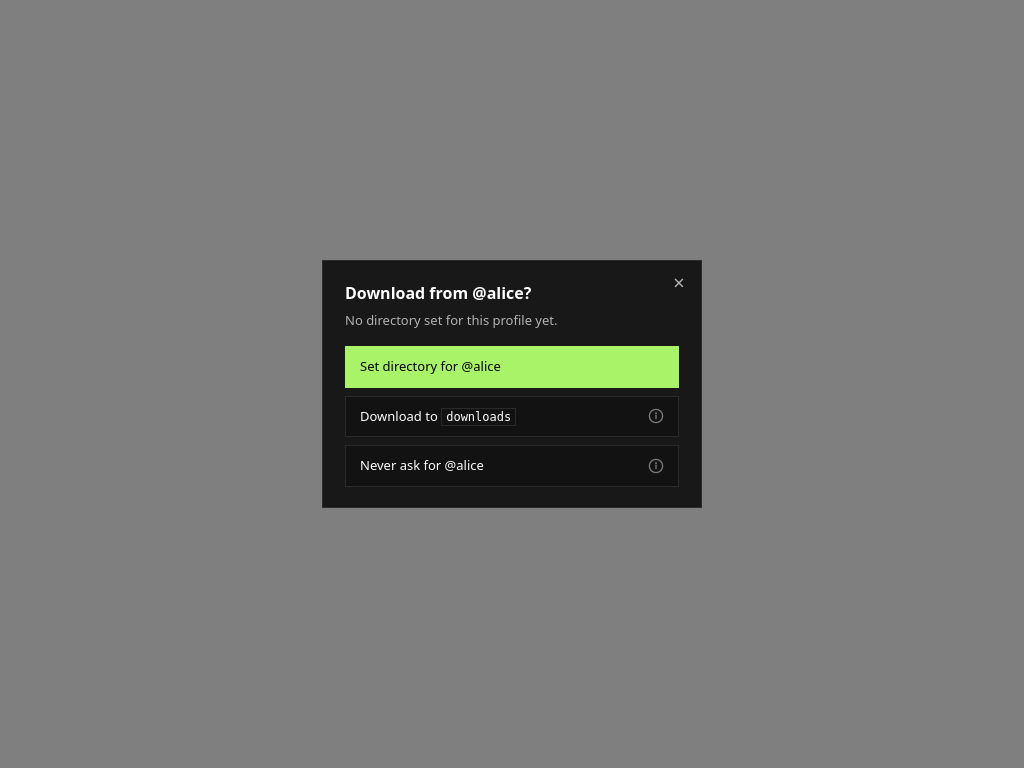
Test: NoDirPopup › hovering the info glyph inside 'Download to' shows a tooltip about the default directory
The width and height of the screenshot is (1024, 768).
Hover over the element with test id "info-tooltip-default" at x=656, y=416, box left=648, top=408, right=664, bottom=424
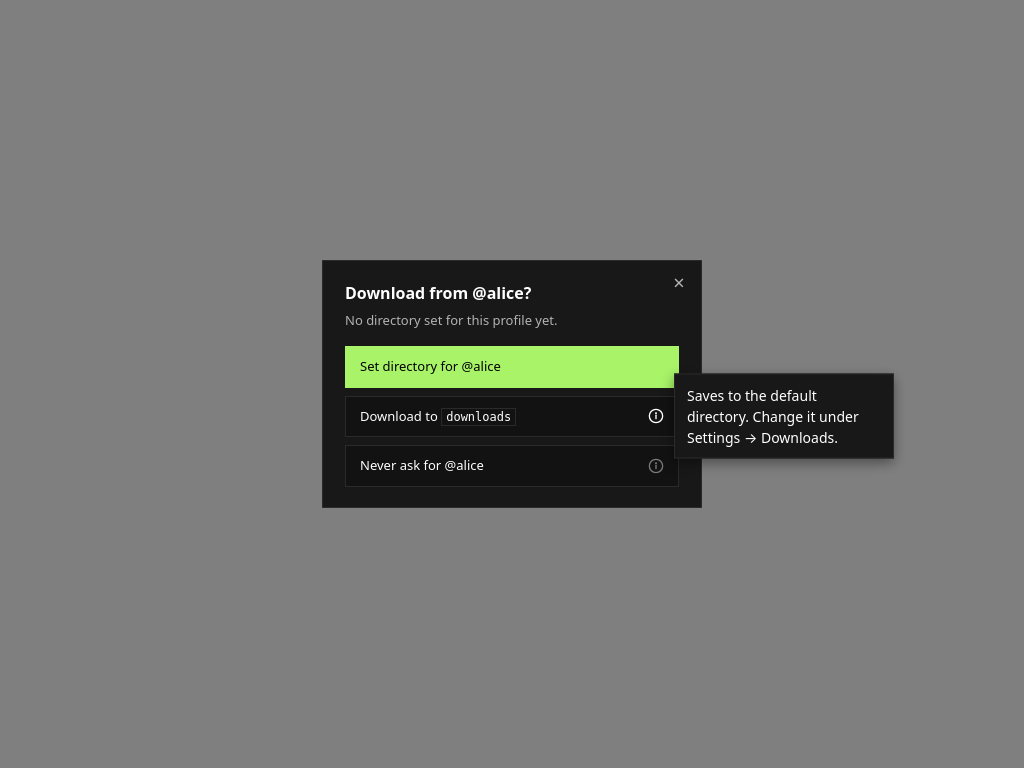
Expected: the tooltip shows "default directory", left=687, top=386, right=859, bottom=447
